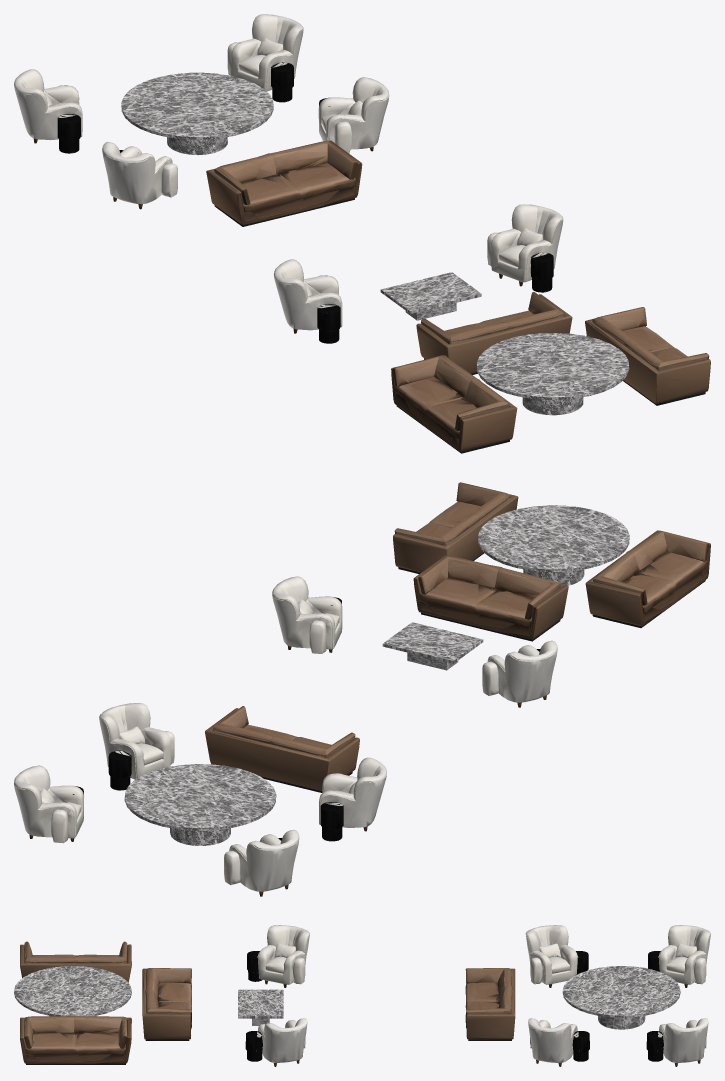
Rendered from Chancery Rosewood_LOBBY_FURNITURE_BAKE_V5.glb.
3 renders of one model, top to bottom at view 1: azimuth 30°, elevation 25°; view 2: azimuth 150°, elevation 25°; view 3: azimuth 270°, elevation 25°, orthographic. The views are drawn at different scales.
Visible parts, largest first — view 1: LOBBY FURNITURE; view 2: LOBBY FURNITURE; view 3: LOBBY FURNITURE.
Part boxes in pixels (x1,y1,x2,y2): LOBBY FURNITURE: (14,14,710,453); LOBBY FURNITURE: (14,482,710,896); LOBBY FURNITURE: (14,925,710,1066).
Bounding box in the file's own units: 4.23 × 0.8493 × 11.83.
Materials: 3 (3 with a texture image).
